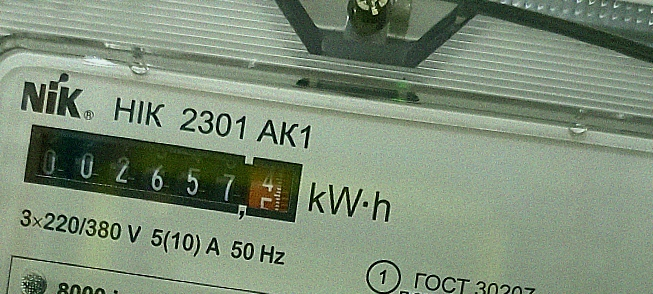0: (77, 148, 96, 180), (39, 146, 59, 176)
2: (112, 154, 132, 185)
4: (259, 165, 277, 192)
5: (183, 165, 202, 197), (257, 194, 274, 210)
6: (148, 161, 166, 192)
7: (218, 170, 237, 203)
screen: (12, 112, 316, 235)
